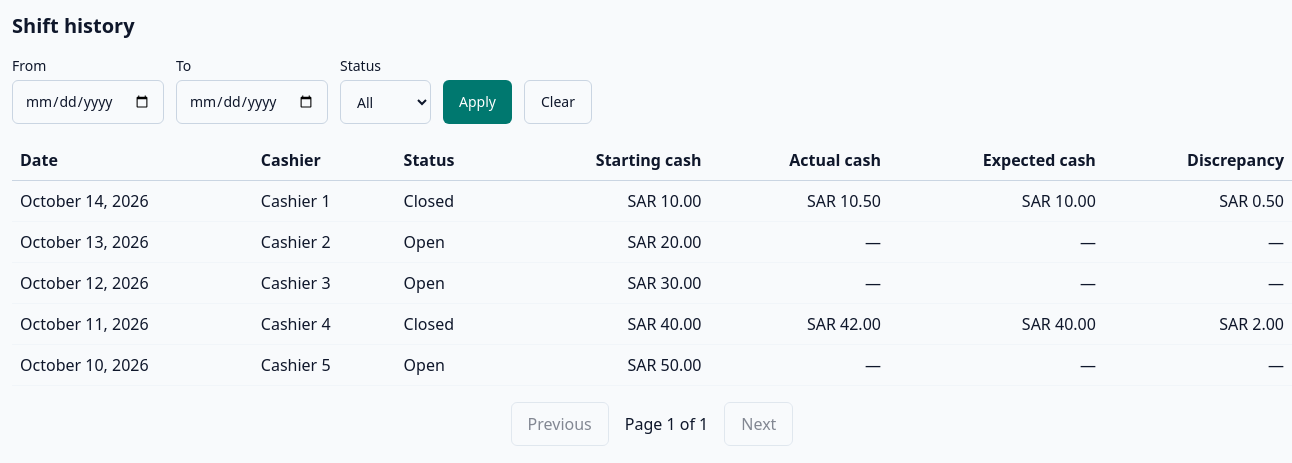
Test: ShiftHistoryPage › shows noMatch in English
This screenshot has width=1292, height=463.
Expected: the table is shown, [12,140,1291,386]
Type "2030-01-01" into the date field labelled "From" at x=88, y=102, box [12,80,164,124]
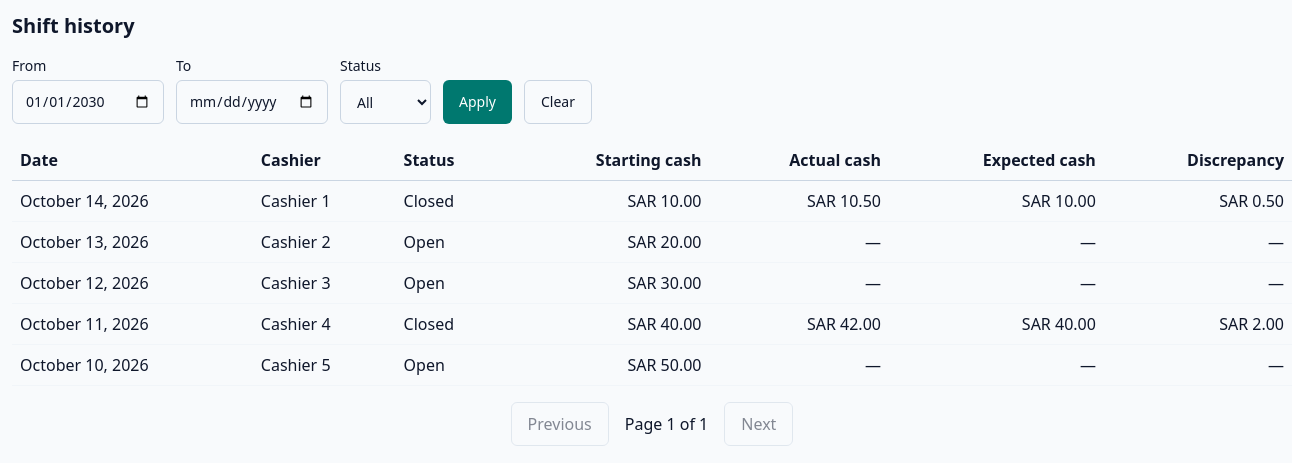
Click the button "Apply" at x=477, y=102, box [443,80,512,124]
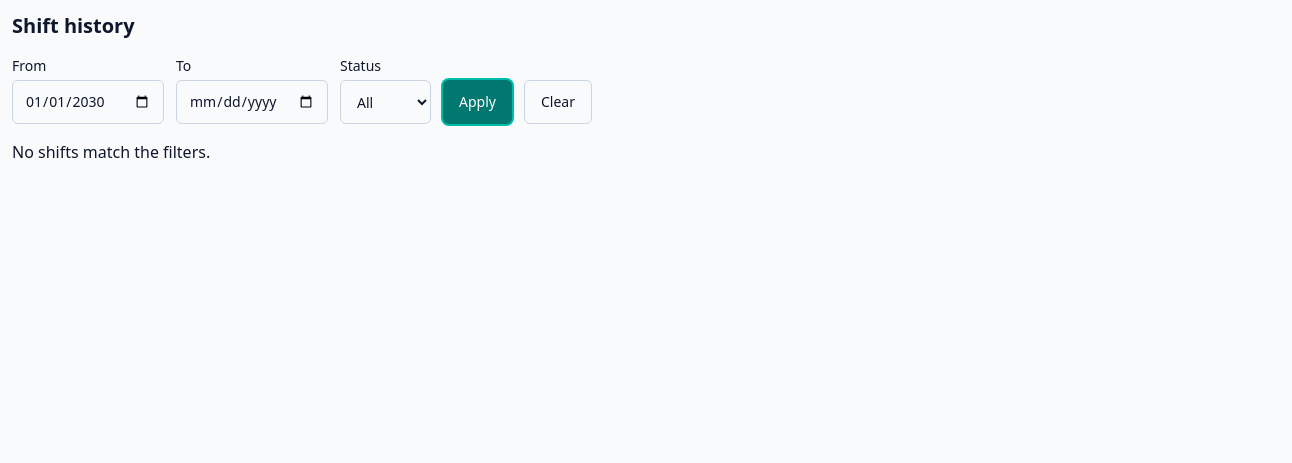
Now the text "No shifts match the filters." is shown, box [12,141,210,163]
